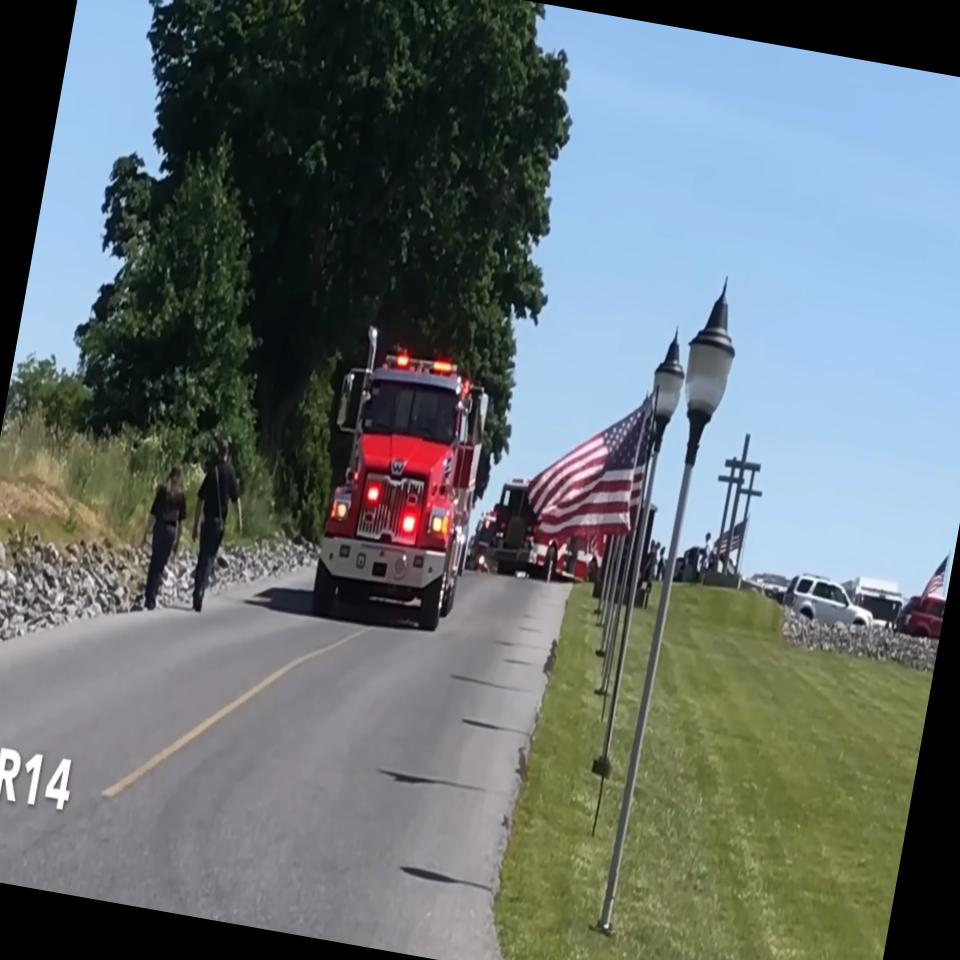viatura: (300, 320, 502, 638)
